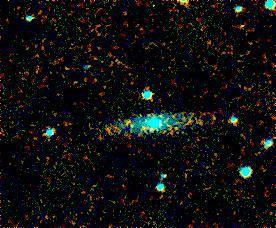star: (225, 13, 255, 43)
